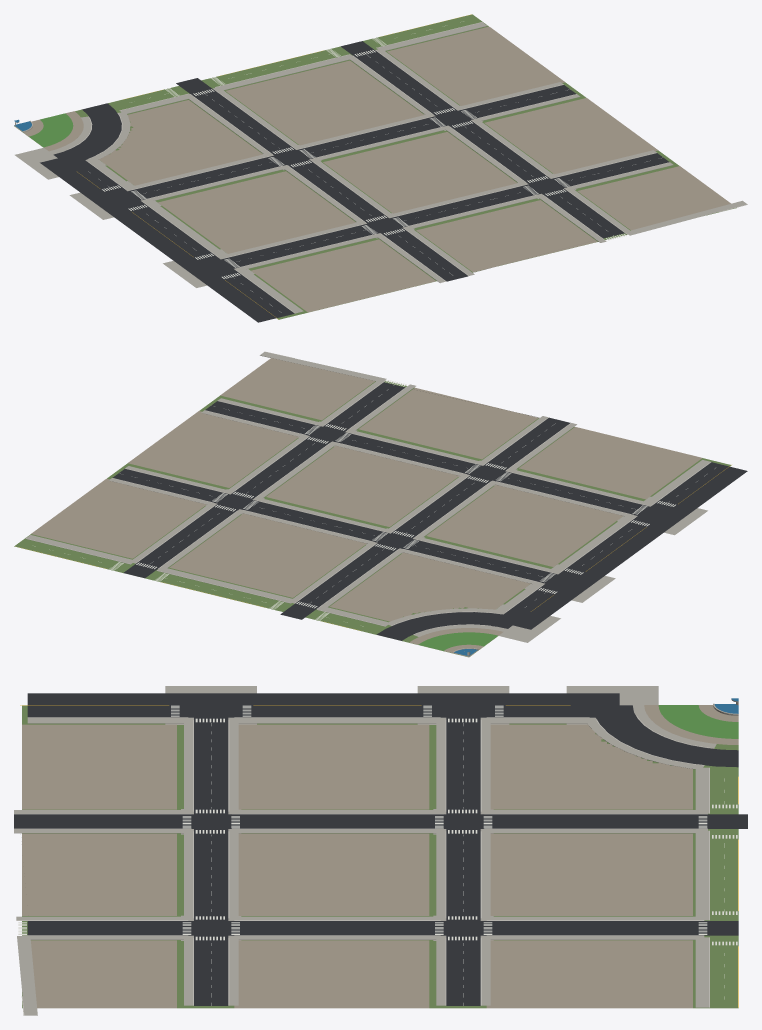
File: Ground_4_3.fbx
3 views of the same model, one above another, from view 1: azimuth 30°, elevation 25°; view 2: azimuth 150°, elevation 25°; view 3: azimuth 270°, elevation 25° (orthographic). The views are drawn at different scales.
Parts seen in each view (by area): view 1: Ground_4_3; view 2: Ground_4_3; view 3: Ground_4_3.
Part boxes in pixels (x1,y1,x2,y2): Ground_4_3: [14, 14, 747, 322]; Ground_4_3: [14, 351, 747, 657]; Ground_4_3: [14, 686, 747, 1015].
Size of the model in its own units: 272 by 2.75 by 256.
